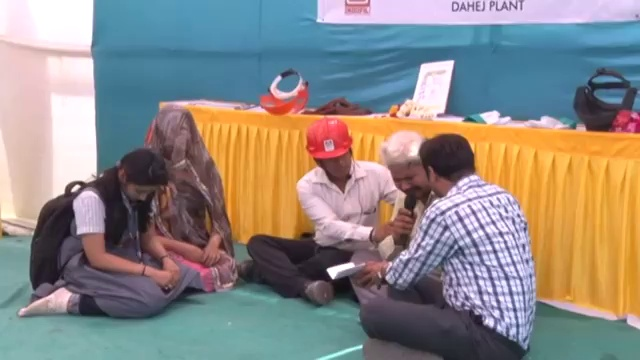helmet: (302, 116, 357, 160)
helmet_off: (420, 134, 480, 201), (150, 108, 201, 171), (112, 152, 166, 207), (389, 130, 425, 201)
helmet_on: (301, 114, 357, 182)
person: (332, 126, 540, 359), (18, 146, 196, 323), (248, 109, 401, 300), (137, 96, 235, 289), (346, 123, 436, 308)
